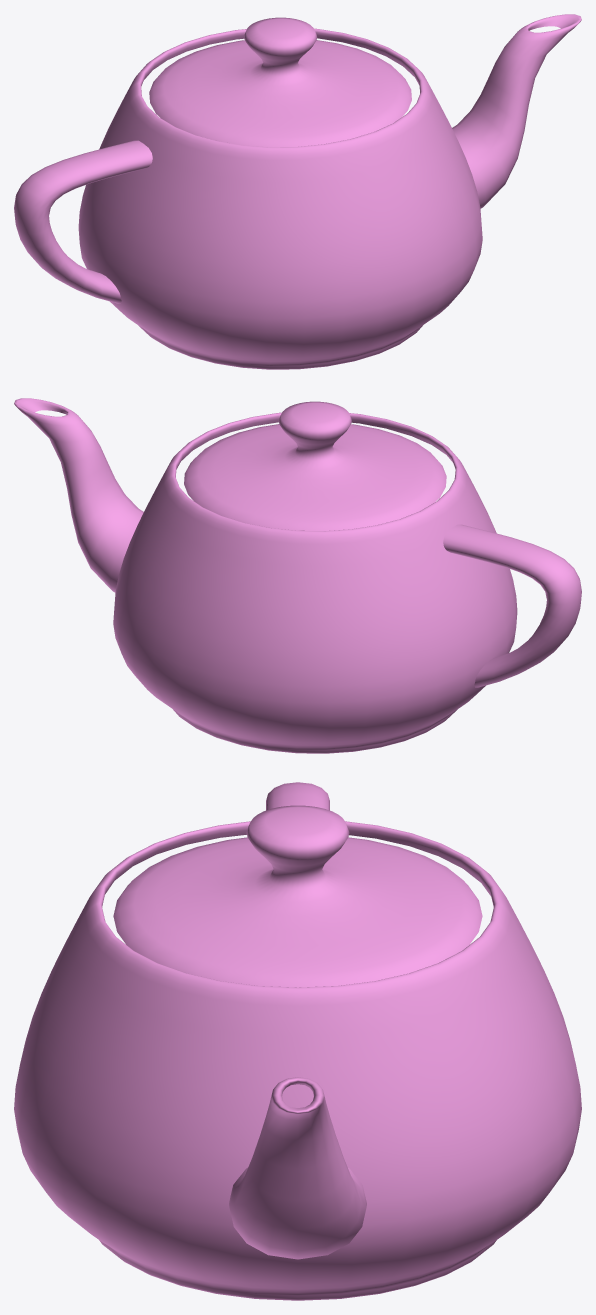
File: teapot.glb
3 renders of one model, top to bottom at view 1: azimuth 30°, elevation 25°; view 2: azimuth 150°, elevation 25°; view 3: azimuth 270°, elevation 25°, orthographic. The views are drawn at different scales.
Parts seen in each view (by area): view 1: body, top, Object001, hand; view 2: body, top, Object001, hand; view 3: body, top, Object001, hand.
Boxes of the visible parts, x1,y1,x2,y2 form: body: (78,28,482,369); top: (149,17,411,147); Object001: (452,14,581,208); hand: (14,140,152,303); body: (113,412,517,753); top: (184,401,446,530); Object001: (14,398,143,592); hand: (443,524,581,687); body: (14,821,581,1300); top: (113,805,482,987); Object001: (229,1077,366,1259); hand: (266,782,329,810).
Size of the model in its own units: 0.0748 by 0.0366 by 0.0465.
